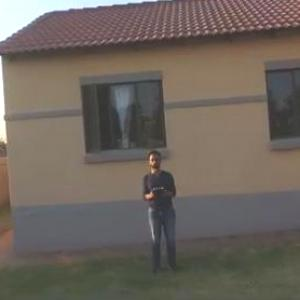follow: (138, 142, 184, 285)
